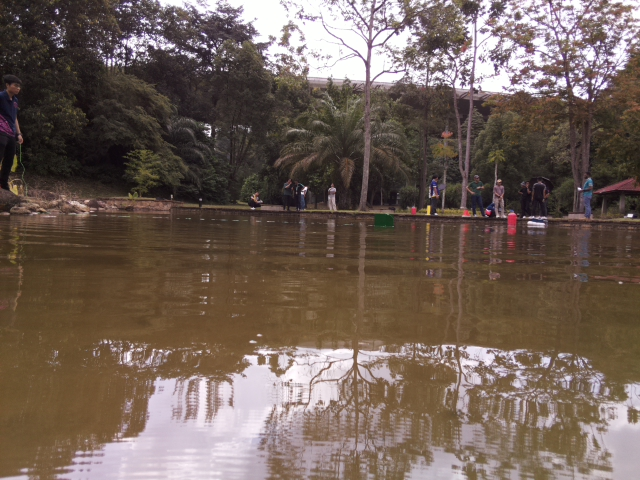obstacle: (372, 213, 395, 228)
